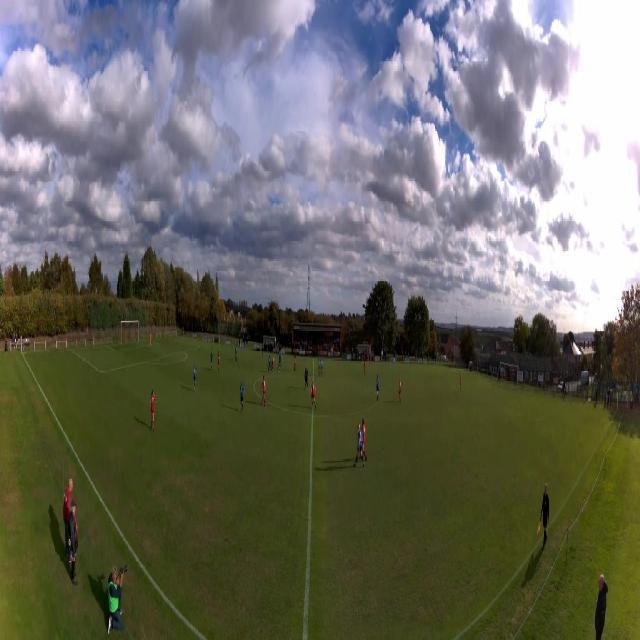ball: (279, 371, 280, 373)
player: (353, 425, 365, 467), (361, 418, 367, 463), (150, 389, 156, 431), (261, 376, 267, 406), (311, 380, 316, 408), (240, 381, 244, 412), (193, 364, 197, 391), (376, 375, 380, 402), (304, 365, 308, 390), (277, 353, 283, 368), (399, 378, 402, 404), (268, 355, 272, 373), (363, 359, 367, 376), (217, 352, 220, 372), (210, 351, 213, 370), (460, 373, 463, 391), (235, 344, 238, 362), (318, 358, 321, 376), (320, 360, 323, 377), (293, 355, 296, 371), (271, 358, 275, 370), (149, 332, 151, 349), (262, 344, 264, 358)
